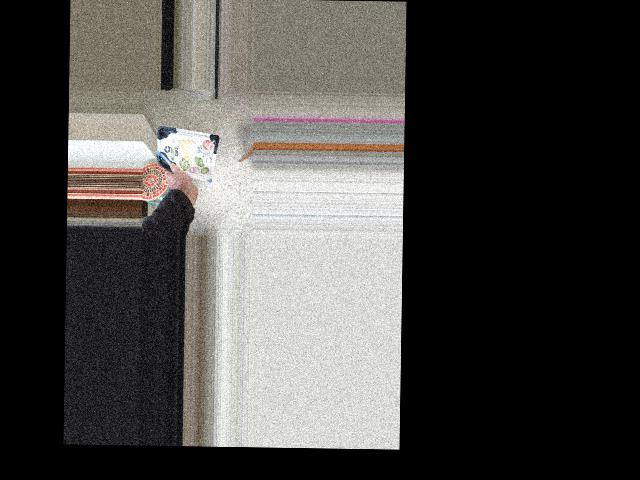cheese: (167, 142, 217, 191)
